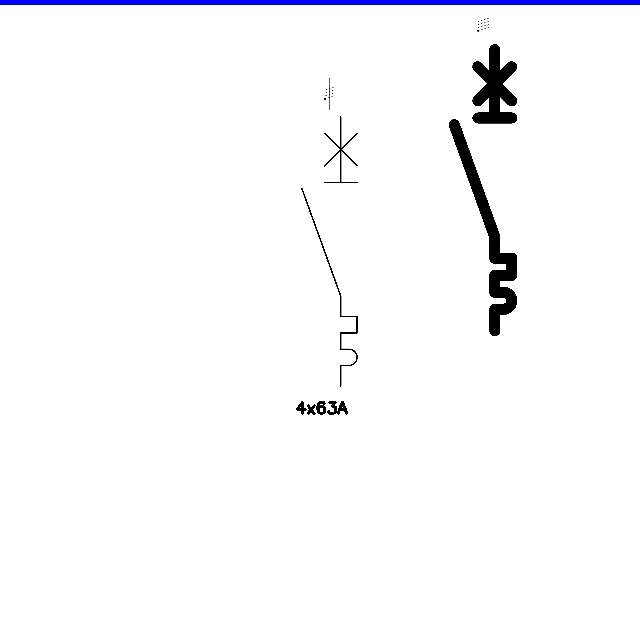interruptor_termomagnetico: (447, 42, 519, 337), (295, 109, 364, 392)
